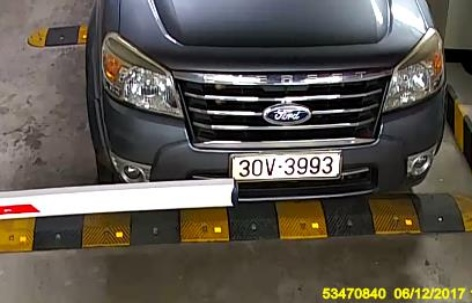plate: (225, 143, 345, 183)
